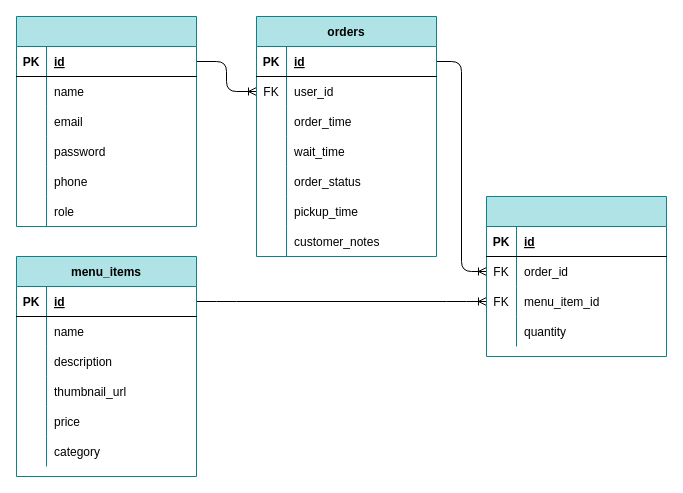
The diagram is 683 pixels wide and 493 high, and some of its shapes have lost their labels. Each missing label, with the box of its shape:
ordered_items: (486, 196, 666, 356)
users: (16, 16, 196, 226)
